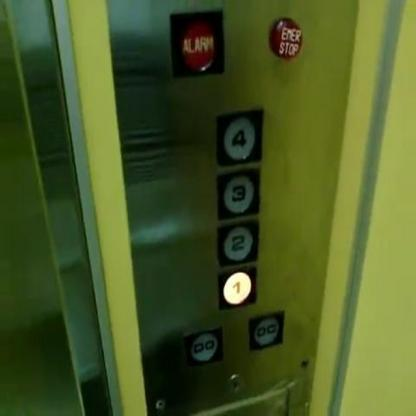1: (217, 266, 256, 310)
2: (216, 220, 258, 266)
3: (214, 168, 260, 221)
4: (214, 107, 262, 166)
DC: (248, 310, 284, 351)
DO: (181, 325, 223, 367)
keyhole: (228, 374, 244, 395)
text: (169, 8, 225, 78), (267, 16, 302, 60)
